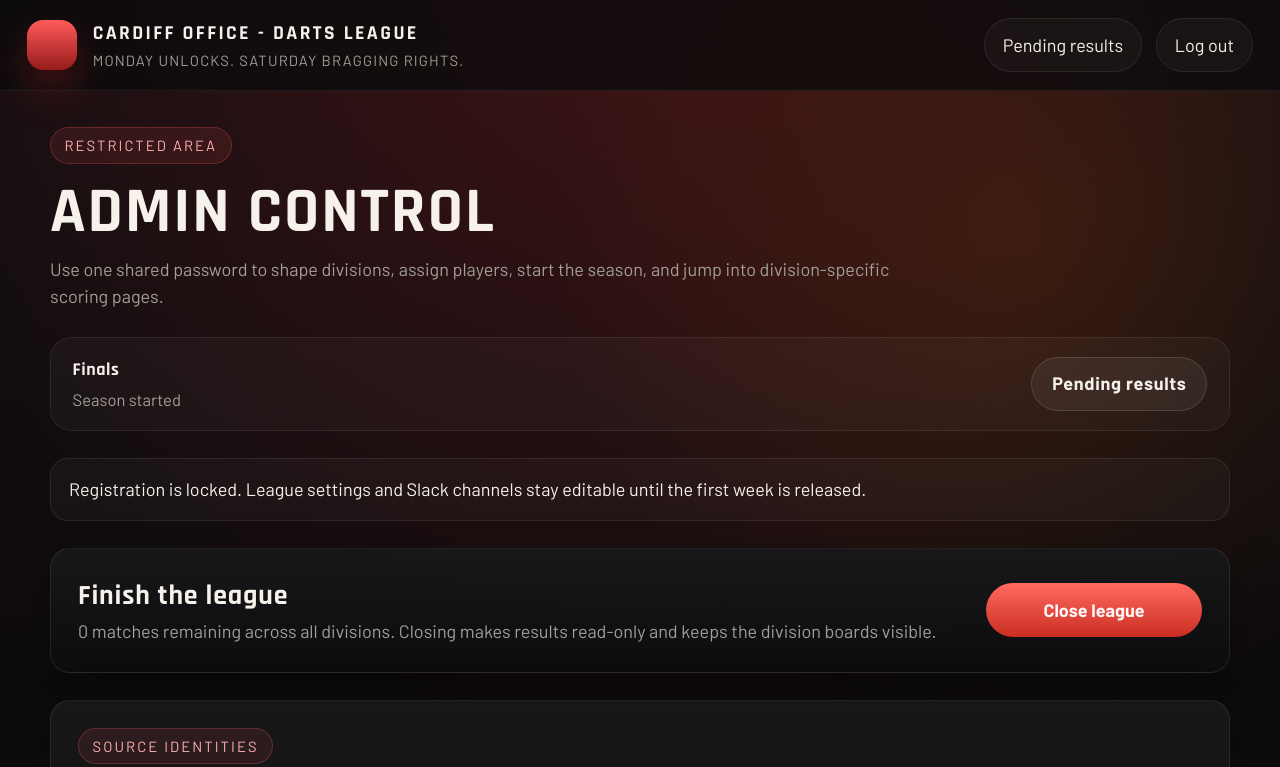
shows server errors without claiming completion
This screenshot has width=1280, height=767.
Click the button "Close league" at (1094, 610), box 986,583 -> 1202,637
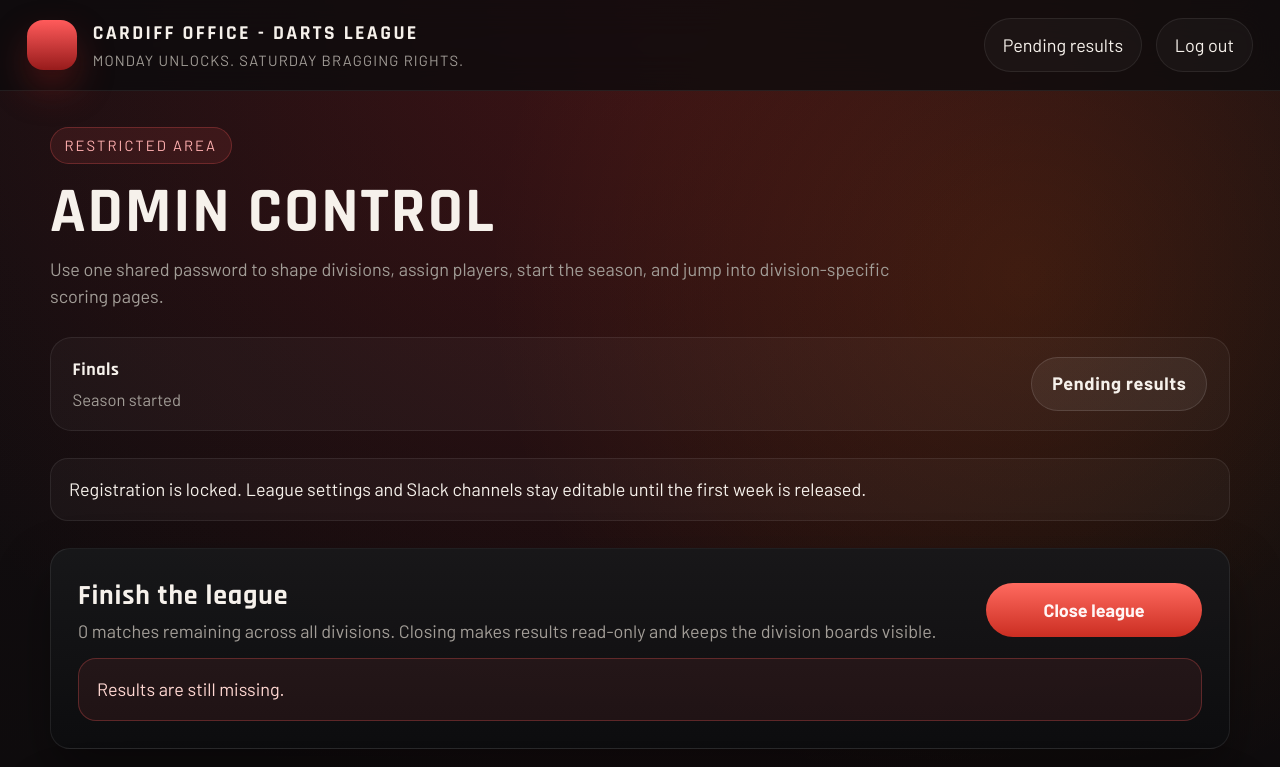
Expected: the text "Results are still missing." is shown, 78,658 -> 1202,721
